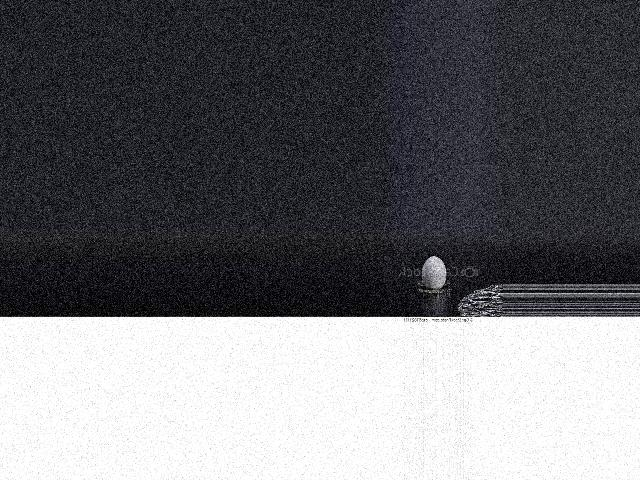egg: (421, 256, 446, 290)
